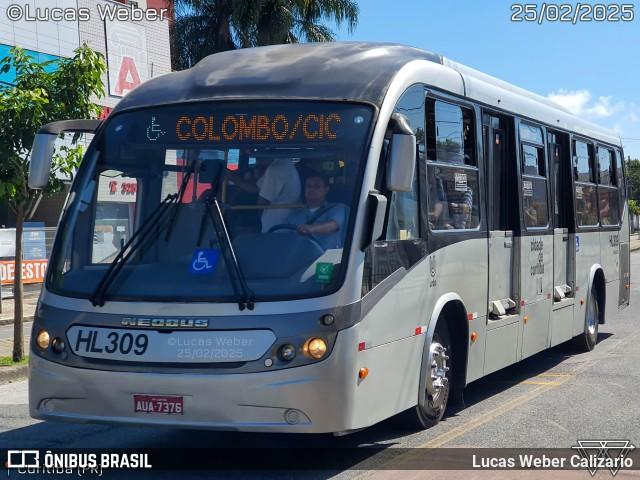COLOMBO CIC: (170, 109, 349, 144)
